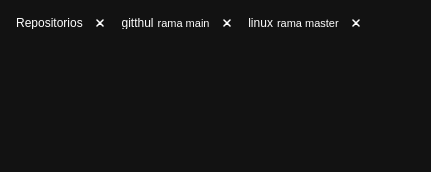
Test: TabStrip › guarda con Enter una sola vez y devuelve el foco a la pestaña
Double-click the button "gitthul rama main": {"x": 166, "y": 23} [118,12,214,35]
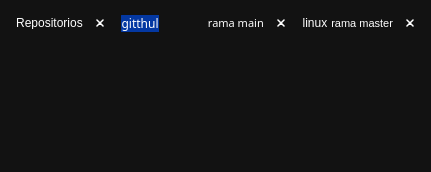
Type keys "Producto{Enter}"
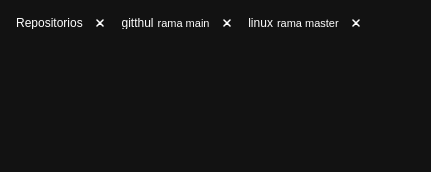
Expected: the field is gone
